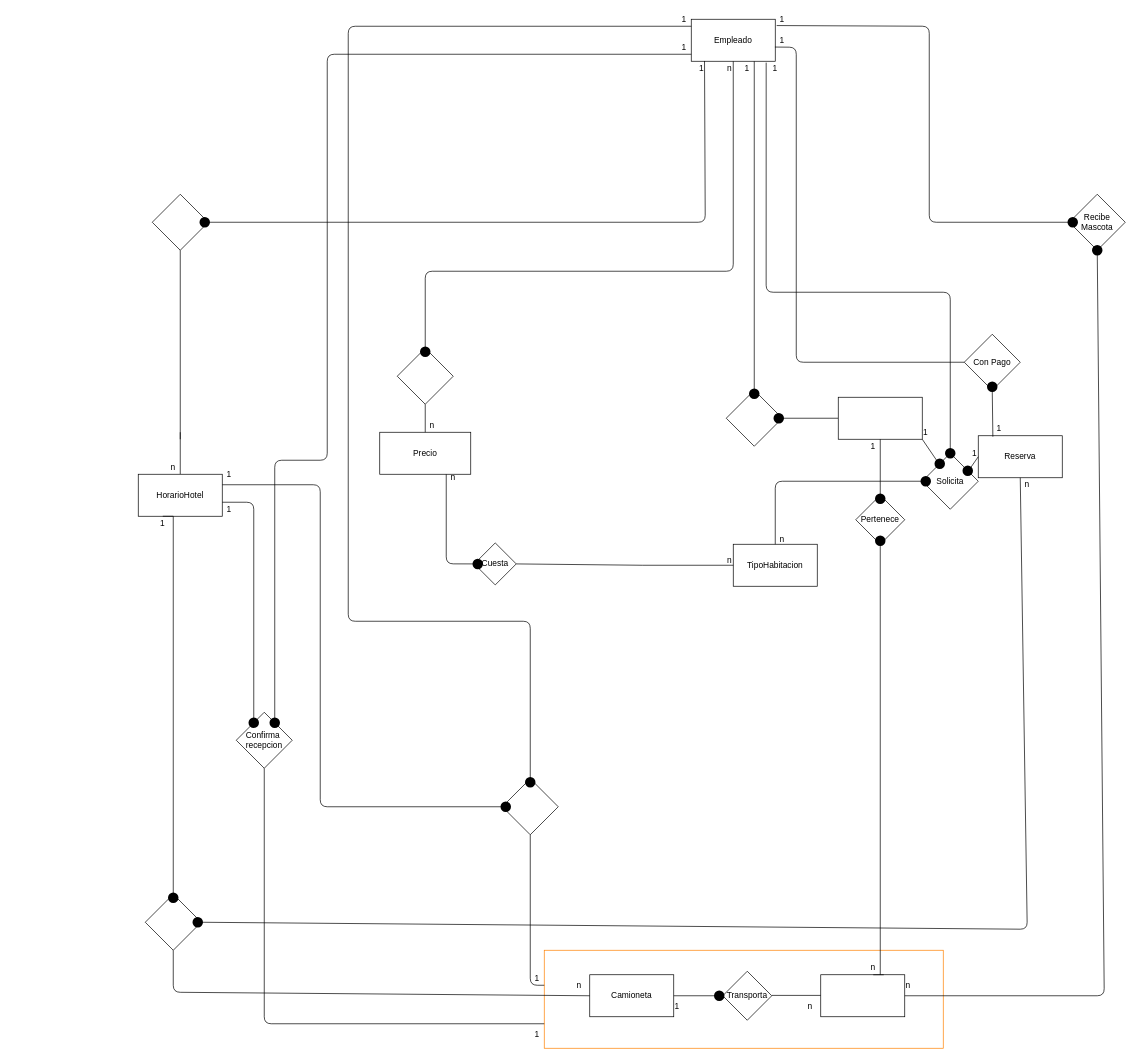
Image size: 1138x1061. Some labels were removed from this diagram. The centre of each missing label's shape, as x and y in pixels:
Acude: (x=173, y=922)
Cliente: (x=880, y=418)
Cobra: (x=754, y=418)
Confirma Salida: (x=530, y=806)
Controla: (x=180, y=222)
Mascota: (x=862, y=995)
Regula: (x=425, y=376)
